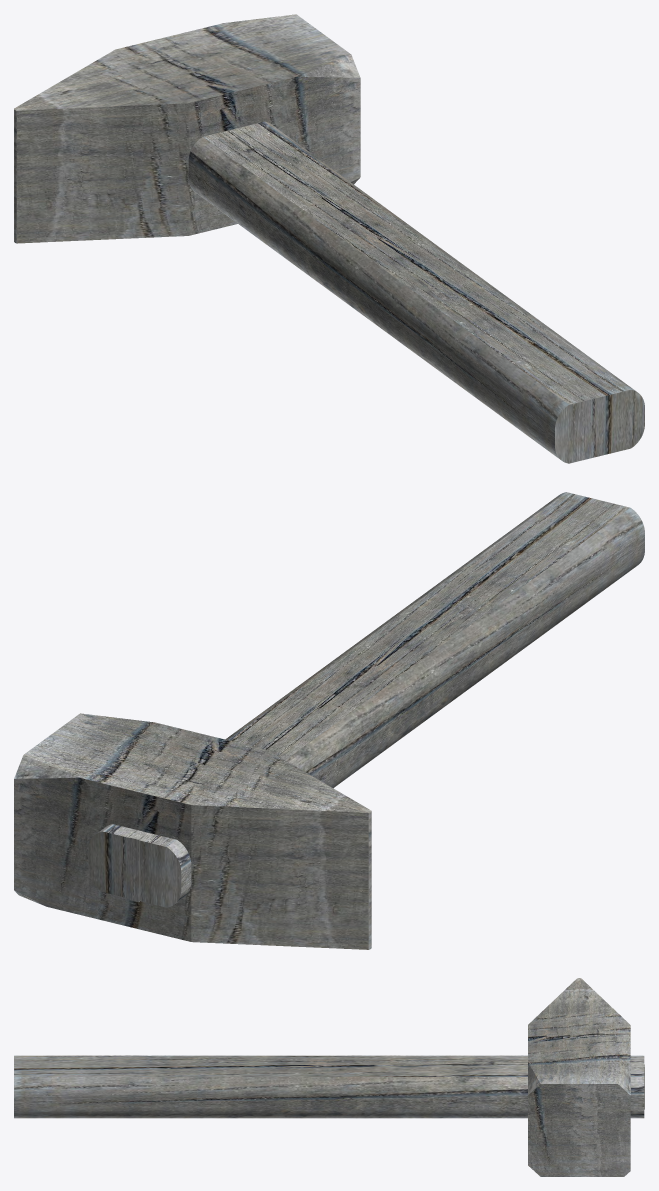
The model's file is hammer.fbx.
3 renders of one model, top to bottom at view 1: azimuth 30°, elevation 25°; view 2: azimuth 150°, elevation 25°; view 3: azimuth 270°, elevation 25°, orthographic. The views are drawn at different scales.
Visible parts, largest first — view 1: Mesh2_Rust_0, Mesh1_Wood1_0; view 2: Mesh2_Rust_0, Mesh1_Wood1_0; view 3: Mesh1_Wood1_0, Mesh2_Rust_0.
Boxes of the visible parts, x1=… form: Mesh2_Rust_0: x1=14, y1=14, x2=360, y2=243; Mesh1_Wood1_0: x1=188, y1=121, x2=644, y2=463; Mesh2_Rust_0: x1=14, y1=713, x2=371, y2=949; Mesh1_Wood1_0: x1=88, y1=492, x2=644, y2=907; Mesh1_Wood1_0: x1=14, y1=1055, x2=644, y2=1118; Mesh2_Rust_0: x1=528, y1=978, x2=630, y2=1176.
Bounding box in the file's own units: 39.96 × 16.4 × 101.
2 materials, 2 textured.
